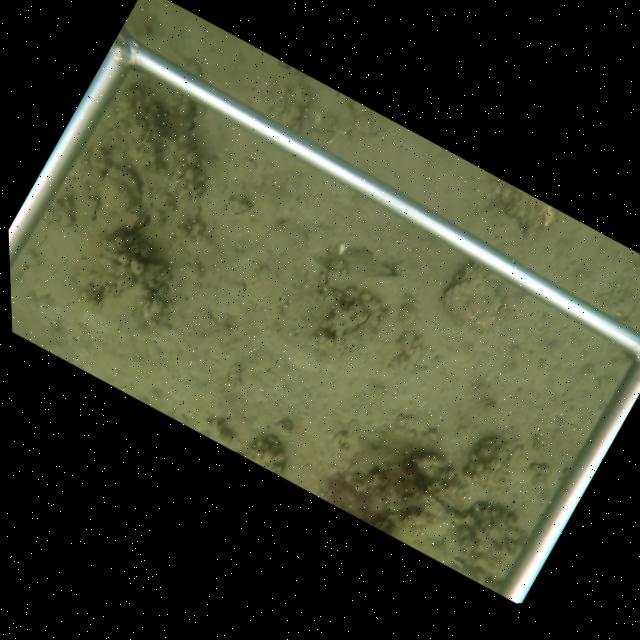Oyster-Closed: (440, 260, 504, 332)
Oyster-Indeterminate: (91, 165, 146, 238)
